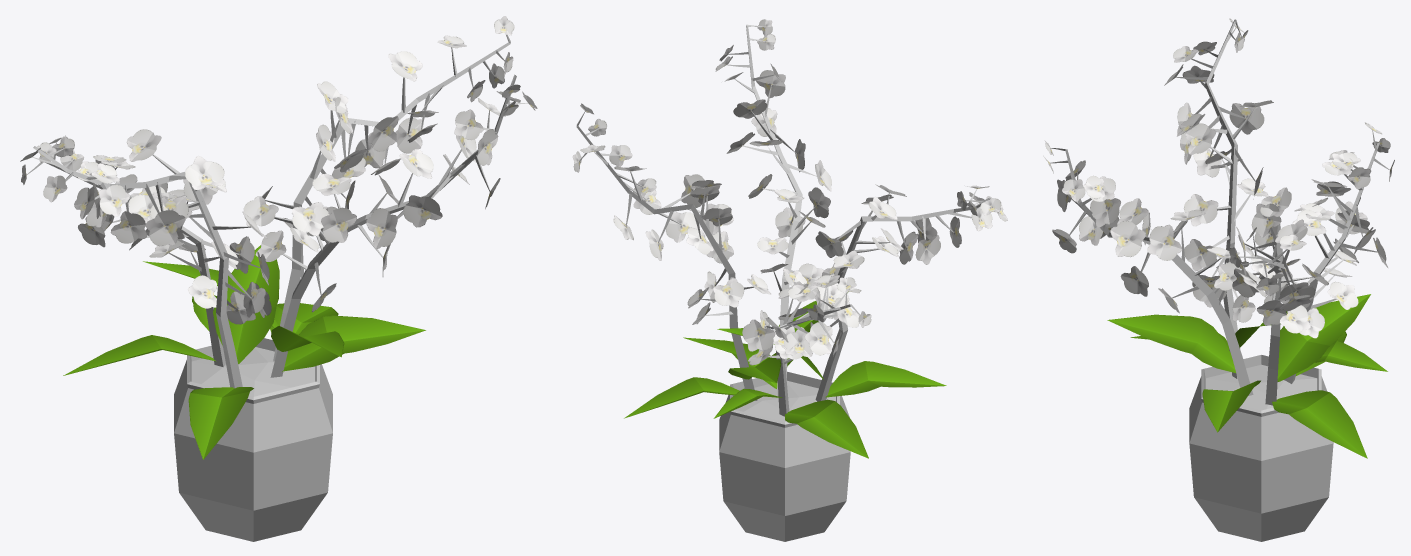
Rendered from SM_OrchidVase.fbx.
3 renders of one model, left to right at view 1: azimuth 30°, elevation 25°; view 2: azimuth 150°, elevation 25°; view 3: azimuth 270°, elevation 25°, orthographic. The views are drawn at different scales.
Parts seen in each view (by area): view 1: SM_OrchidVase; view 2: SM_OrchidVase; view 3: SM_OrchidVase.
Boxes of the visible parts, bbox=[...] form: SM_OrchidVase: bbox=[20, 16, 537, 541]; SM_OrchidVase: bbox=[572, 19, 1007, 541]; SM_OrchidVase: bbox=[1043, 18, 1394, 541].
Size of what is drawn, in the model's own units: 0.4023 by 0.3701 by 0.2682.
